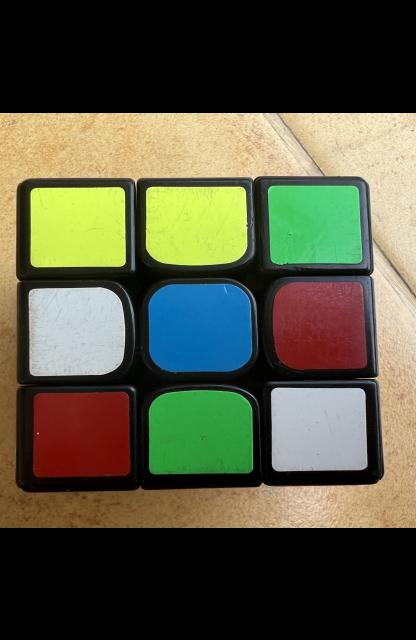Blue: (148, 282, 253, 371)
Green: (148, 389, 253, 474), (268, 185, 363, 264)
Red: (272, 281, 367, 369), (33, 392, 130, 477)
White: (28, 286, 126, 375), (270, 386, 368, 471)
Yellow: (146, 186, 248, 265), (30, 186, 126, 267)
